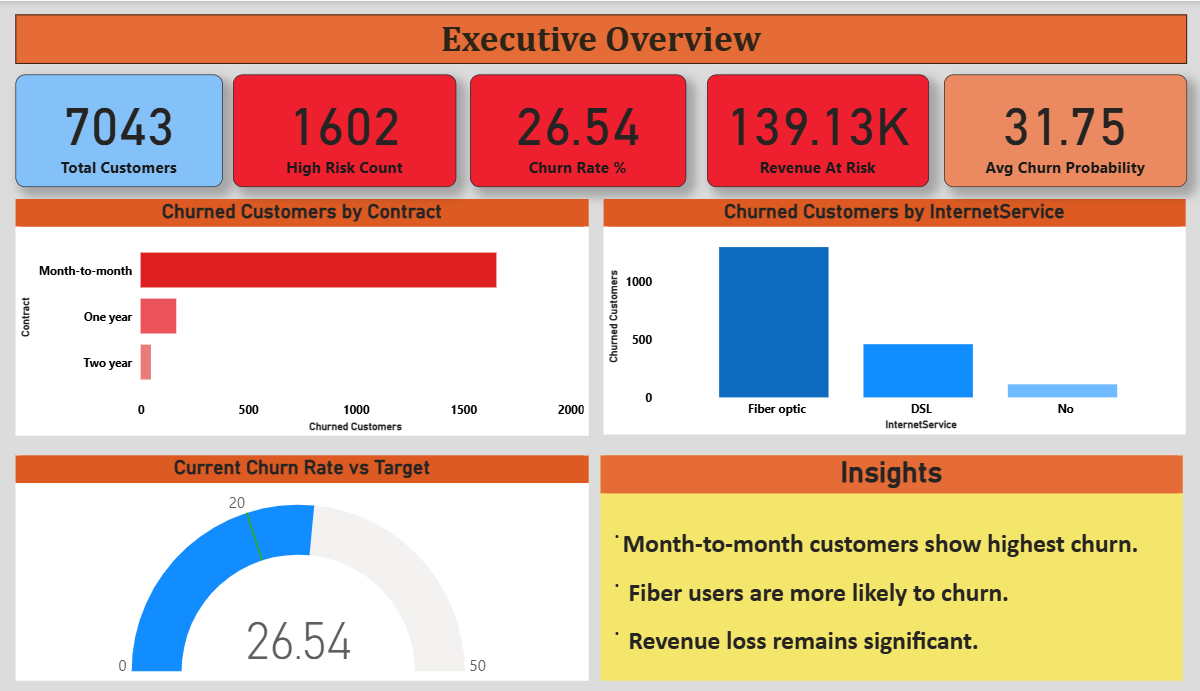

The dashboard page shown, as its layout file describes it:
{"tool":"powerbi","page":{"name":"Executive Overview","canvas":[1280,720],"ordinal":0},"visuals":[{"type":"card","fields":{"Values":["telco_cleaned.Total Customers"]},"box":[26.6,76.6,215.7,117.2],"z":0},{"type":"card","fields":{"Values":["telco_cleaned.Churn Rate %"]},"box":[500.2,76.6,225.1,117.2],"z":1000},{"type":"card","fields":{"Values":["telco_cleaned.Revenue At Risk"]},"box":[747.1,76.6,231.3,117.2],"z":2000},{"type":"clusteredBarChart","fields":{"Category":["telco_cleaned.Contract"],"Y":["telco_cleaned.Churned Customers"]},"box":[26.6,206.3,597.1,247],"z":3000},{"type":"clusteredColumnChart","fields":{"Category":["telco_cleaned.InternetService"],"Y":["telco_cleaned.Churned Customers"]},"box":[639.3,206.3,606.4,245.4],"z":4000},{"type":"gauge","title":"Current Churn Rate vs Target","fields":{"Y":["telco_cleaned.Churn Rate %"],"TargetValue":["telco_cleaned.Target Churn Rate"],"MinValue":["telco_cleaned.Min Churn Gauge"],"MaxValue":["telco_cleaned.Max Churn Gauge"]},"box":[26.6,473.6,597.1,234.4],"z":5000},{"type":"card","fields":{"Values":["churn_predictions.Avg Churn Probability"]},"box":[994.1,76.6,253.2,117.2],"z":6000},{"type":"textbox","title":"Insights","box":[636.1,473.6,606.4,234.4],"z":7000},{"type":"card","fields":{"Values":["churn_predictions.High Risk Count"]},"box":[253.2,76.6,232.9,117.2],"z":8000},{"type":"textbox","box":[26.6,14.1,1220.7,51.6],"z":9000}]}

Visuals, with their boxes in screenshot pixels (x1, y1, x2, y2), scaled from the page's 1280x720 canvas onto the 1200x691 screenshot:
card - telco_cleaned.Total Customers: select_region(25, 74, 227, 186)
card - telco_cleaned.Churn Rate %: select_region(469, 74, 680, 186)
card - telco_cleaned.Revenue At Risk: select_region(700, 74, 917, 186)
clusteredBarChart - telco_cleaned.Contract x telco_cleaned.Churned Customers: select_region(25, 198, 585, 435)
clusteredColumnChart - telco_cleaned.InternetService x telco_cleaned.Churned Customers: select_region(599, 198, 1168, 434)
"Current Churn Rate vs Target" gauge: select_region(25, 455, 585, 679)
card - churn_predictions.Avg Churn Probability: select_region(932, 74, 1169, 186)
"Insights" textbox: select_region(596, 455, 1165, 679)
card - churn_predictions.High Risk Count: select_region(237, 74, 456, 186)
textbox: select_region(25, 14, 1169, 63)
